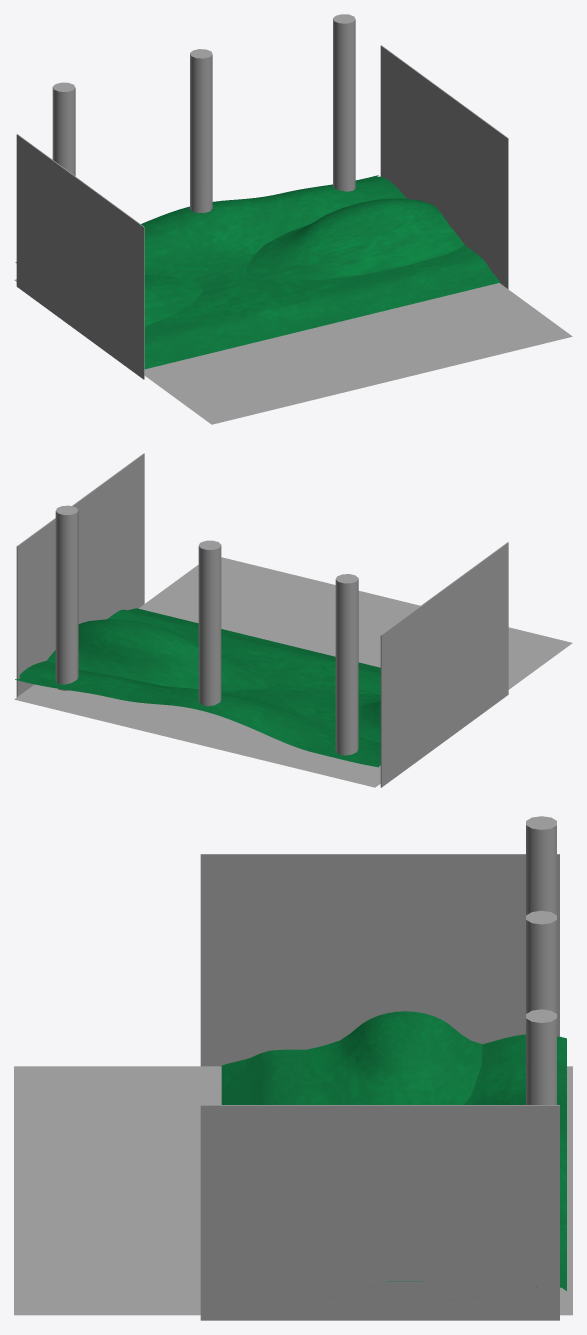
Rendered from GreyboxArena.fbx.
The picture shows the model from 3 angles, top to bottom: view 1: azimuth 30°, elevation 25°; view 2: azimuth 150°, elevation 25°; view 3: azimuth 270°, elevation 25°; orthographic projection. The views are drawn at different scales.
Parts seen in each view (by area): view 1: pPlane3, pPlane4, pCube4, pCube3, pSphere2, pCylinder2, pCylinder1, pSphere1, pCylinder3; view 2: pPlane4, pCube4, pPlane3, pCube3, pSphere2, pCylinder3, pCylinder2, pCylinder1, pSphere1; view 3: pCube3, pCube4, pPlane4, pSphere1, pPlane3, pCylinder1, pCylinder3, pCylinder2.
Boxes of the visible parts, box(x1,y1,x2,y2) form: pPlane3: box(15, 175, 500, 369); pPlane4: box(14, 279, 572, 424); pCube4: box(16, 134, 144, 379); pCube3: box(380, 45, 508, 289); pSphere2: box(246, 198, 464, 281); pCylinder2: box(333, 14, 355, 191); pCylinder1: box(190, 49, 212, 213); pSphere1: box(144, 275, 202, 326); pCylinder3: box(52, 82, 75, 176); pPlane4: box(14, 557, 572, 787); pCube4: box(380, 542, 508, 787); pPlane3: box(15, 608, 380, 767); pCube3: box(16, 453, 144, 697); pSphere2: box(47, 619, 275, 690); pCylinder3: box(335, 574, 358, 755); pCylinder2: box(55, 505, 78, 690); pCylinder1: box(198, 540, 221, 706); pSphere1: box(313, 693, 380, 742); pCube3: box(200, 1105, 559, 1320); pCube4: box(200, 854, 559, 1066); pPlane4: box(14, 1066, 572, 1315); pSphere1: box(307, 1011, 482, 1104); pPlane3: box(221, 1034, 566, 1300); pCylinder1: box(526, 910, 556, 1013); pCylinder3: box(526, 816, 556, 915); pCylinder2: box(526, 1009, 556, 1104).
Size of the model in its own units: 20053 by 10195 by 18825.
